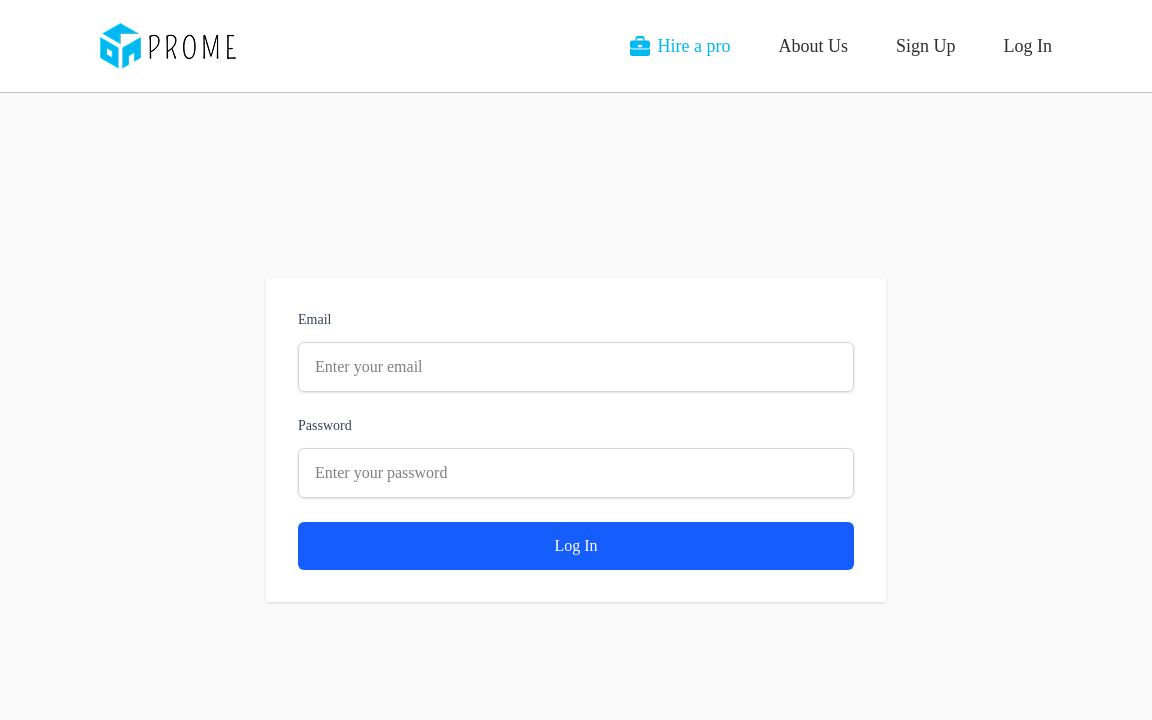
Auth: Login & Register › Login Flow › validates required fields on login form
# Try to submit without filling fields
Click the button with test id "login-submit". click: (576,546)
box: [298,522,854,570]
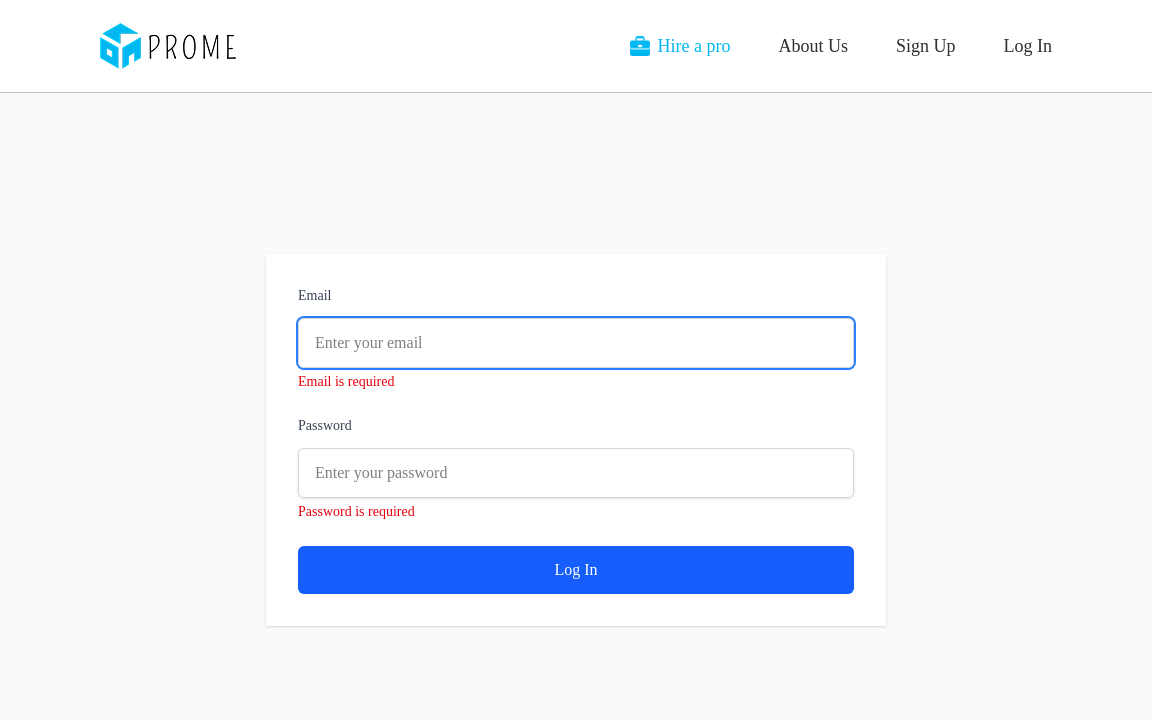
Check: the text with test id "login-email-error" reads "Email is required", box [298,374,394,389]
Check: the text with test id "login-password-error" reads "Password is required", box [298,504,415,519]
